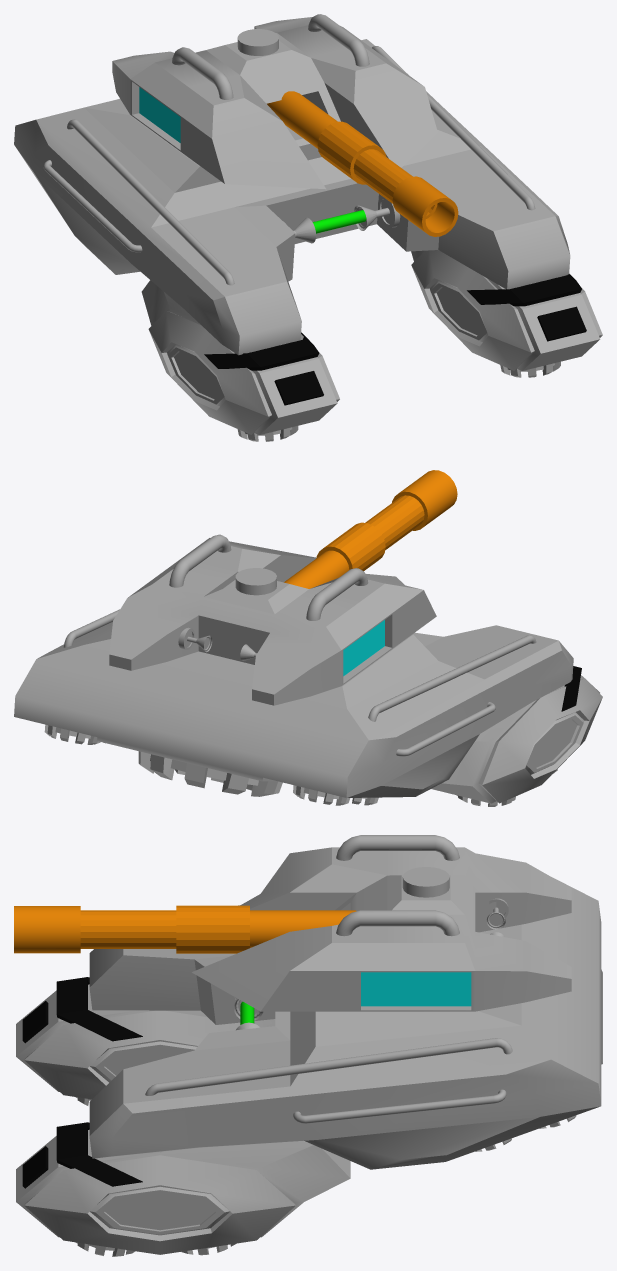
The model's file is Prototype.fbx.
3 renders of one model, top to bottom at view 1: azimuth 30°, elevation 25°; view 2: azimuth 150°, elevation 25°; view 3: azimuth 270°, elevation 25°, orthographic. The views are drawn at different scales.
Visible parts, largest first — view 1: pCube3, pCube4, pCylinder11, pCylinder1, pCylinder2, pPlane1 (×2), pCylinder5 (×2), pPipe1, pCube1 (×2), polySurface1, pCylinder3, pCylinder7 (+3 smaller); view 2: pCube3, pCube4, pCylinder11, pCylinder2, pPipe8, pCylinder5 (×2), pPipe1, pCylinder3, pCylinder7, pCylinder8, pCylinder6, polySurface2 (+3 smaller); view 3: pCube3, pCube4, pCylinder1, pCylinder11, pCylinder2, pPlane1 (×2), pCylinder5, pPipe1, pCylinder3, pCylinder7, pCylinder4, pCube1 (×2) (+1 smaller).
Part boxes in pixels (x1,y1,x2,y2): pCube3: (14, 39, 570, 355); pCube4: (112, 17, 437, 189); pCylinder11: (141, 280, 339, 434); pCylinder1: (411, 250, 602, 370); pCylinder2: (267, 91, 437, 218); pPlane1 (×2): (204, 274, 581, 370); pCylinder5 (×2): (67, 46, 535, 285); pPipe1: (392, 176, 458, 236); pCube1 (×2): (274, 306, 586, 405); polySurface1: (283, 195, 400, 243); pCylinder3: (308, 14, 369, 66); pCylinder7: (172, 47, 233, 99); pCube3: (14, 622, 573, 797); pCube4: (109, 538, 436, 705); pCylinder11: (431, 675, 602, 803); pCylinder2: (284, 495, 424, 588); pPipe8: (138, 751, 282, 796); pCylinder5 (×2): (63, 609, 536, 721); pPipe1: (392, 470, 457, 530); pCylinder3: (169, 534, 231, 587); pCylinder7: (306, 568, 368, 620); pCylinder8: (235, 568, 276, 595); pCylinder6: (396, 702, 495, 756); polySurface2: (178, 627, 256, 660); pCube3: (89, 878, 602, 1169); pCube4: (192, 847, 571, 1011); pCylinder1: (16, 1129, 350, 1254); pCylinder11: (16, 984, 275, 1099); pCylinder2: (80, 905, 356, 953); pPlane1 (×2): (56, 977, 142, 1186); pCylinder5: (145, 1038, 512, 1095); pPipe1: (14, 906, 80, 953); pCylinder3: (336, 910, 459, 936); pCylinder7: (336, 835, 459, 860); pCylinder4: (293, 1089, 506, 1123); pCube1 (×2): (22, 1001, 48, 1188).
Bounding box in the file's own units: 15.46 × 10.73 × 18.92.
